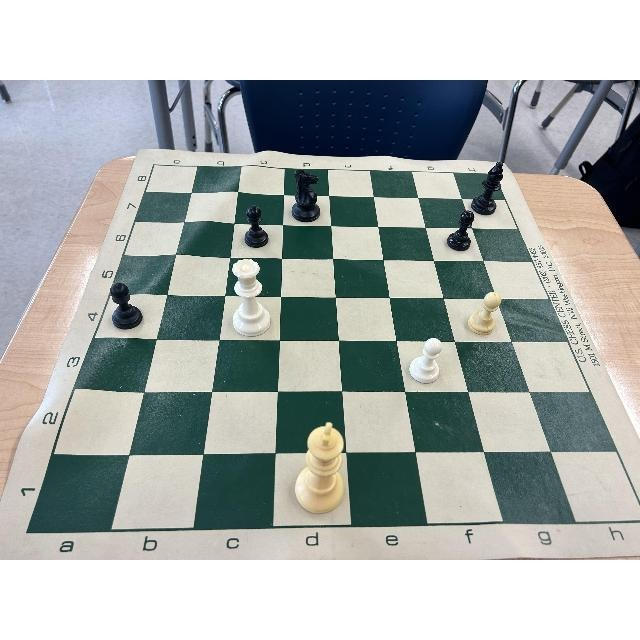black-bishop: (472, 159, 504, 214)
black-knight: (290, 169, 321, 223)
black-pawn: (109, 281, 144, 331), (447, 209, 475, 251), (244, 205, 270, 247)
white-king: (294, 420, 346, 516)
white-pawn: (409, 338, 443, 384), (468, 291, 502, 335)
white-queen: (231, 258, 273, 337)
